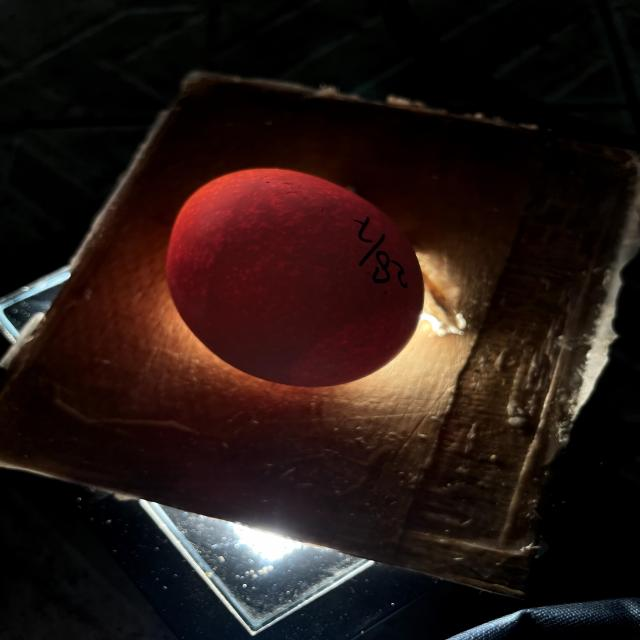fertile: (167, 169, 423, 387)
